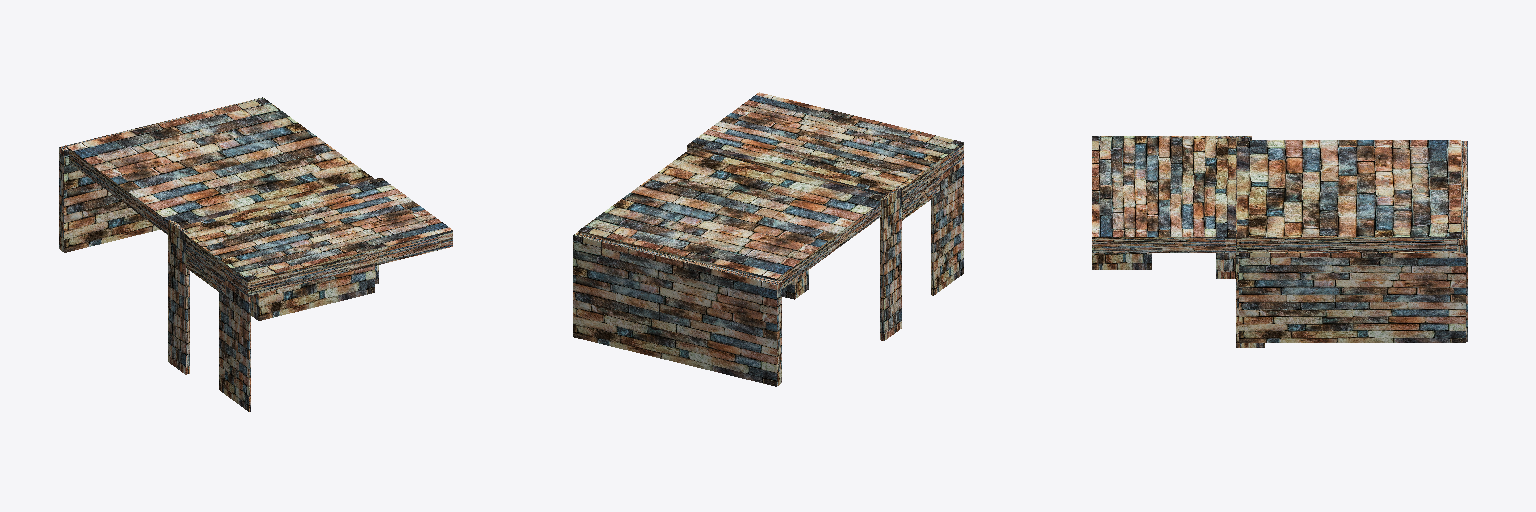
3 views of the same model, side by side, from view 1: azimuth 30°, elevation 25°; view 2: azimuth 150°, elevation 25°; view 3: azimuth 270°, elevation 25° (orthographic).
Visible parts, largest first — view 1: Parte_superior_Garage, Box16942, Pate_izquierda_Garage, Box16944, Parte_Derecha_Garage, Box16943, Box16945; view 2: Parte_superior_Garage, Pate_izquierda_Garage, Box16942, Box16944, Box16943, Box16945; view 3: Parte_superior_Garage, ParteTraseraGarage, Box16942, Box16944, Pate_izquierda_Garage, Box16943.
Boxes of the visible parts, x1,y1,x2,y2 form: Parte_superior_Garage: [67, 98, 373, 234]; Box16942: [181, 178, 452, 296]; Pate_izquierda_Garage: [59, 97, 263, 252]; Box16944: [219, 281, 250, 411]; Parte_Derecha_Garage: [251, 266, 374, 320]; Box16943: [168, 220, 189, 374]; Box16945: [186, 252, 224, 295]; Parte_superior_Garage: [579, 149, 883, 288]; Pate_izquierda_Garage: [573, 231, 781, 386]; Box16942: [687, 92, 963, 204]; Box16944: [931, 160, 963, 295]; Box16943: [880, 186, 901, 340]; Box16945: [902, 177, 939, 220]; Parte_superior_Garage: [1237, 140, 1460, 251]; ParteTraseraGarage: [1239, 252, 1465, 342]; Box16942: [1092, 136, 1235, 252]; Box16944: [1092, 253, 1151, 269]; Pate_izquierda_Garage: [1457, 141, 1467, 341]; Box16943: [1216, 136, 1251, 278].
Size of the model in its own units: 68.43 by 44.71 by 108.
Materials: 1 (1 with a texture image).